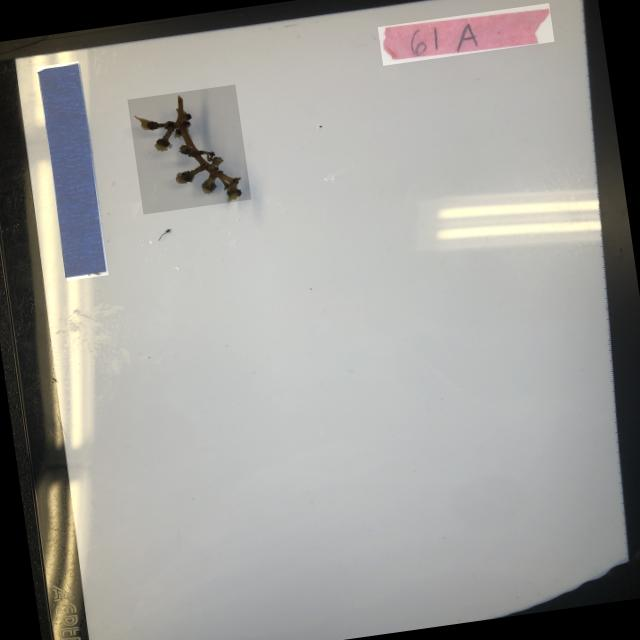index: (378, 3, 554, 66)
measure_label: (37, 61, 109, 281)
rachis_cluster: (128, 85, 252, 215)
